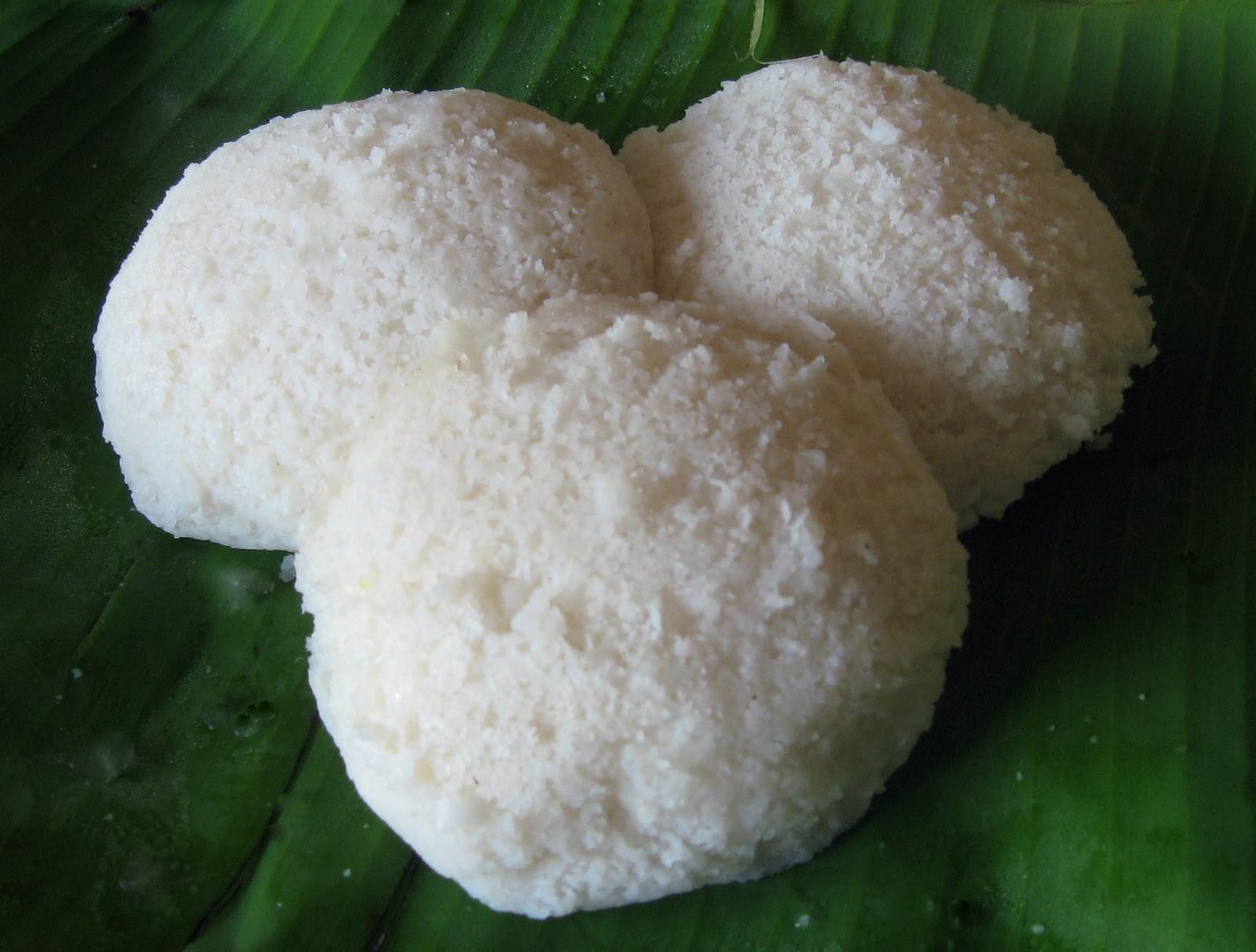Idli: (297, 300, 967, 909), (605, 49, 1151, 523), (93, 89, 643, 552)
